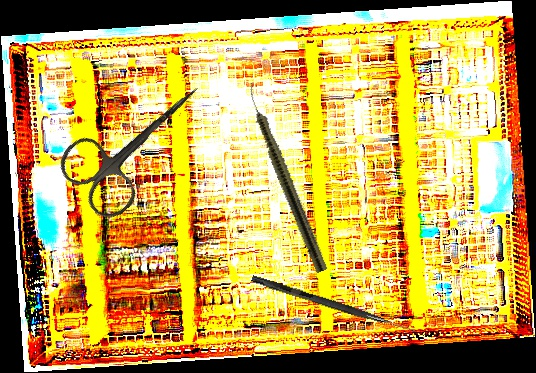Handpiece: (240, 81, 331, 274)
Hook Surgical: (250, 275, 417, 334)
Iris Scissors: (50, 56, 228, 227)
